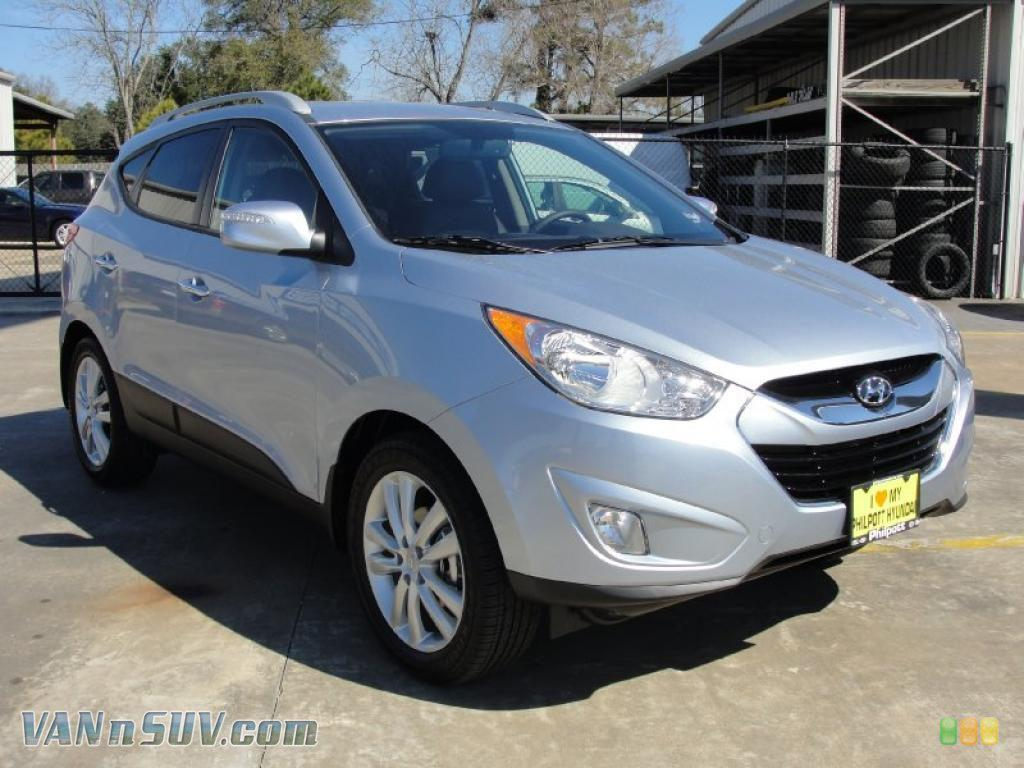Car: (42, 84, 984, 704)
